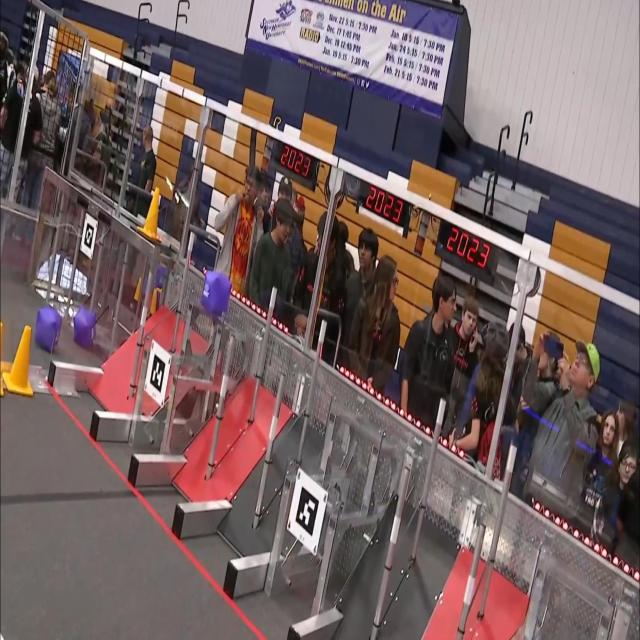frc_cone: (2, 323, 33, 398), (137, 185, 163, 243), (133, 276, 143, 304), (0, 352, 5, 394), (149, 289, 158, 312)
frc_cube: (200, 268, 231, 317), (34, 303, 62, 353), (72, 304, 98, 351), (155, 260, 166, 290)
